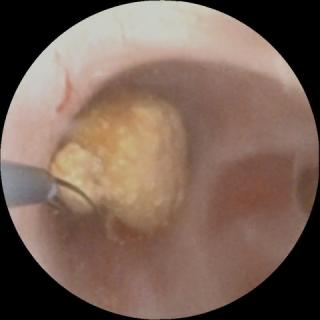stone: (51, 86, 189, 235)
tissue: (11, 7, 311, 315)
